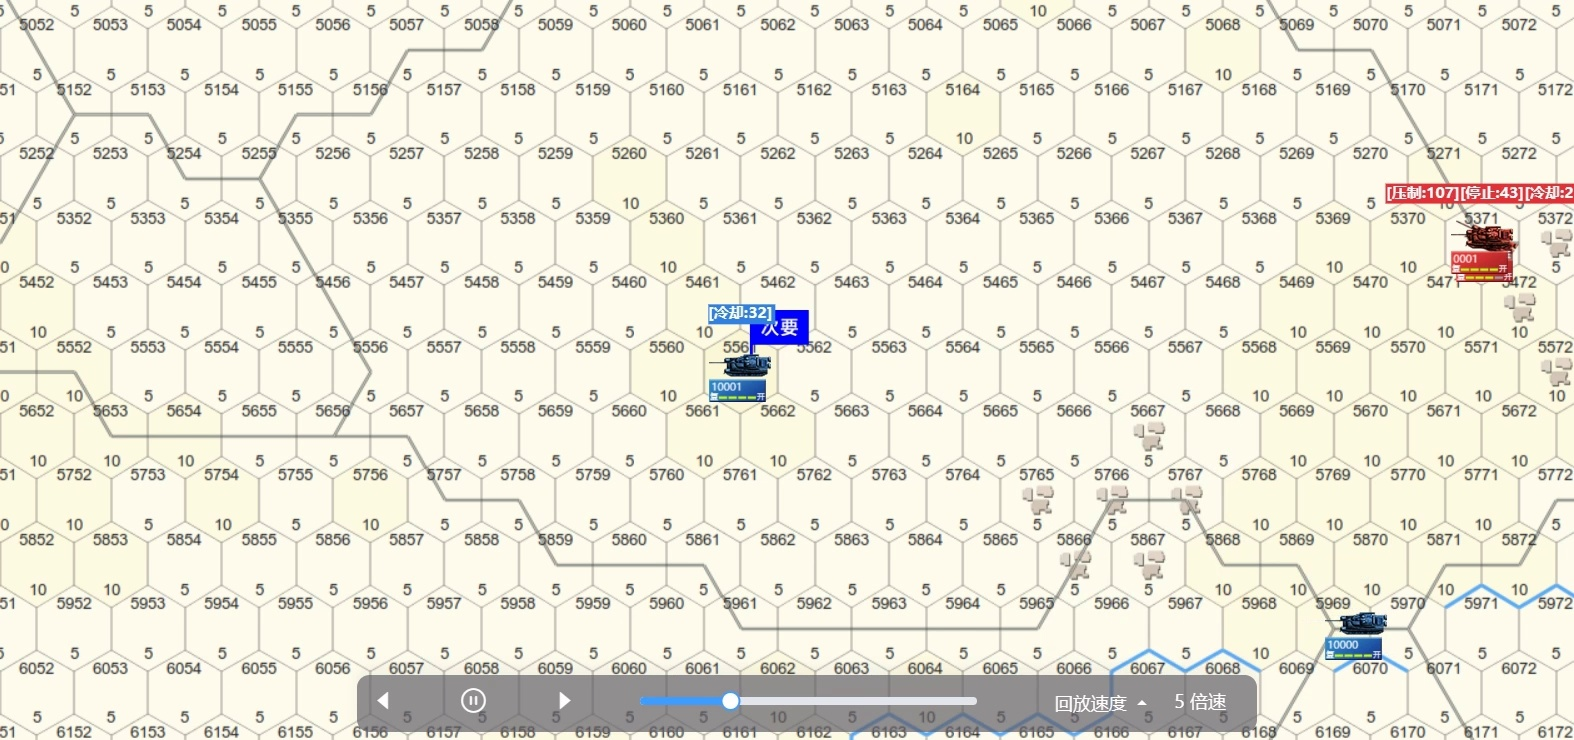blue_tank: (711, 360, 775, 404), (1331, 614, 1387, 658)
red_tank: (1454, 224, 1522, 282)
